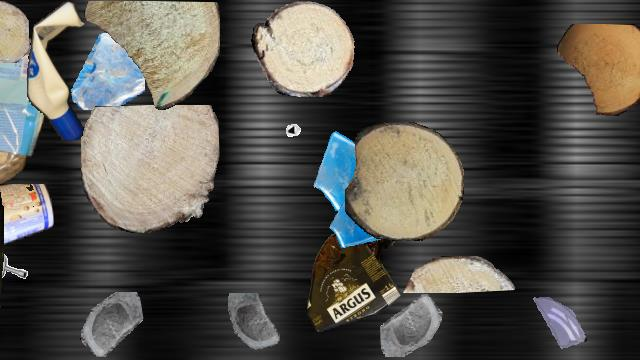glass: (311, 124, 403, 216), (68, 33, 144, 109), (223, 293, 289, 359), (79, 292, 143, 356), (329, 190, 393, 254), (380, 294, 442, 356), (530, 295, 588, 353)
metal: (0, 252, 34, 300), (283, 107, 321, 145)
plastic: (307, 224, 401, 332), (27, 1, 91, 139), (0, 35, 44, 209), (0, 184, 54, 254), (0, 127, 4, 359)
wood: (81, 105, 219, 233), (84, 1, 220, 109), (345, 122, 463, 240), (251, 1, 355, 97), (557, 24, 640, 116), (401, 256, 515, 292), (0, 1, 29, 63)
